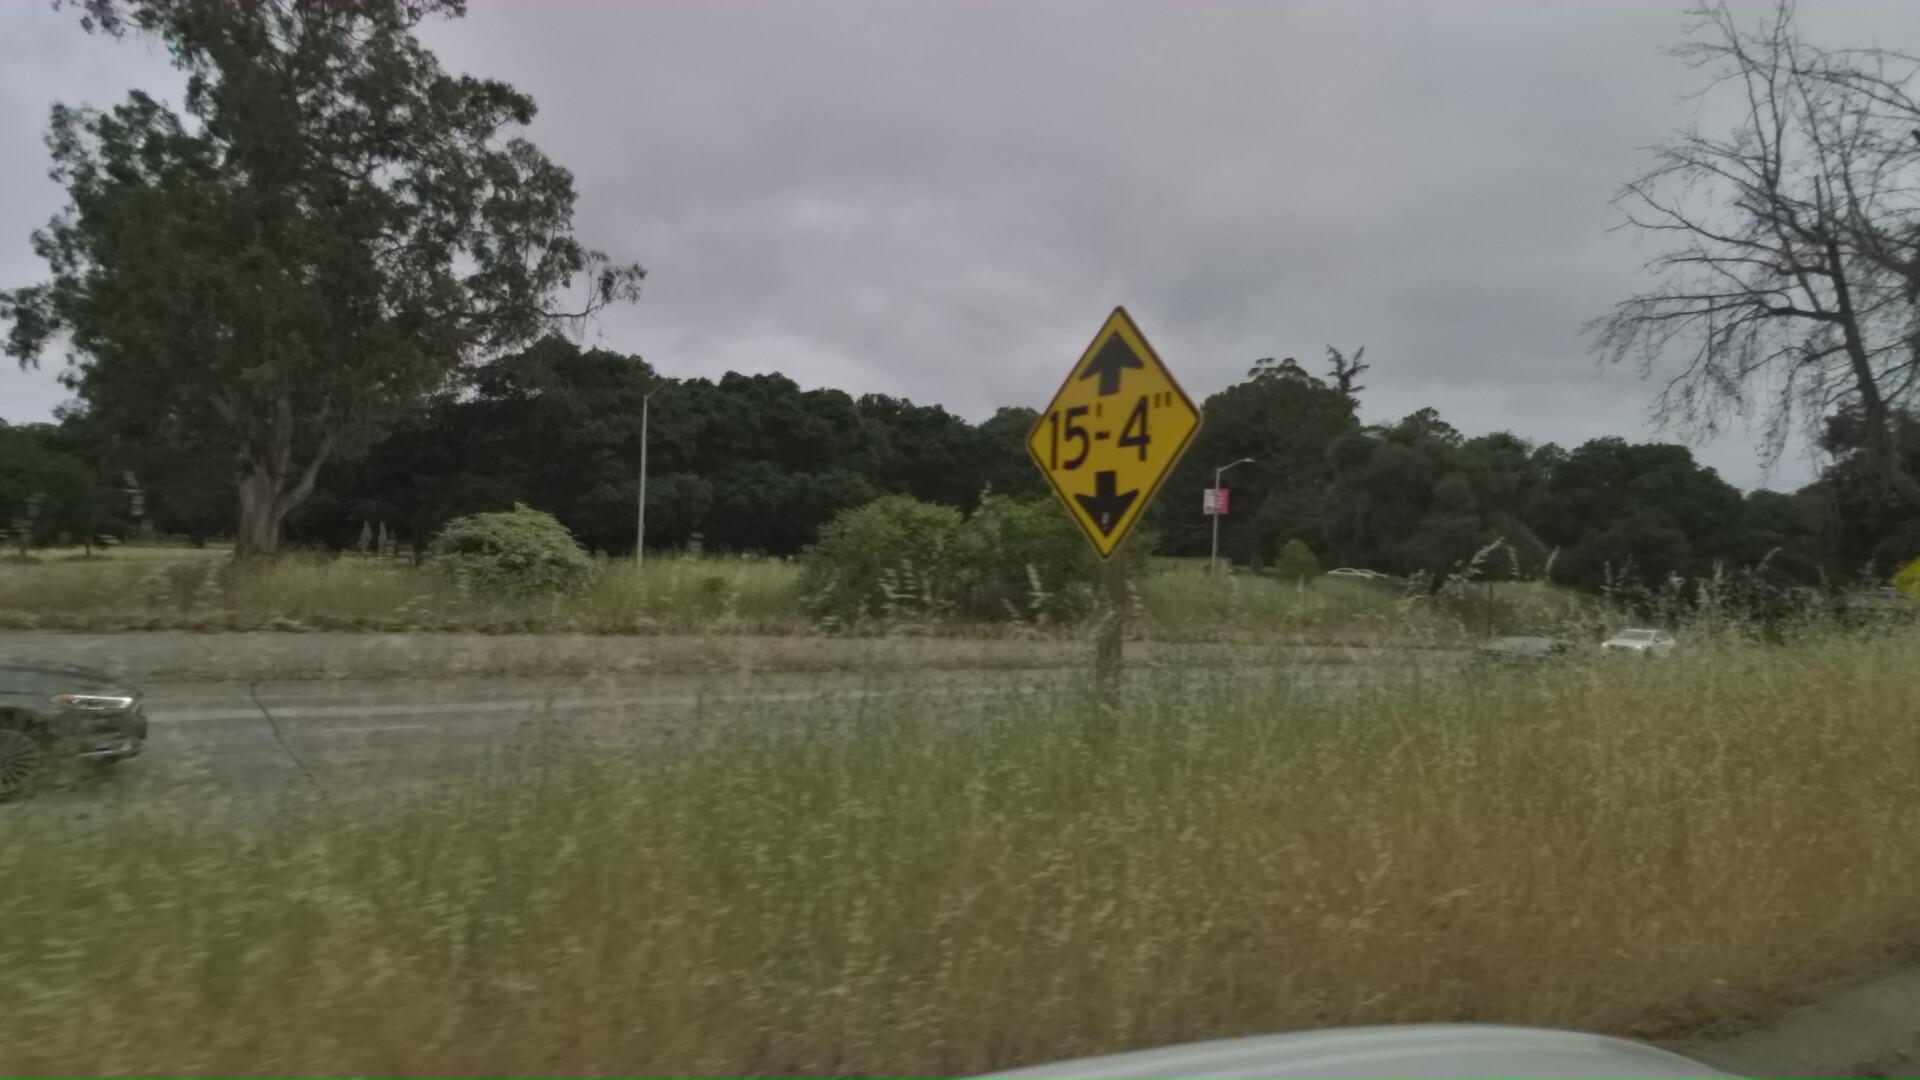car: (0, 585, 183, 895), (1447, 616, 1629, 692)
